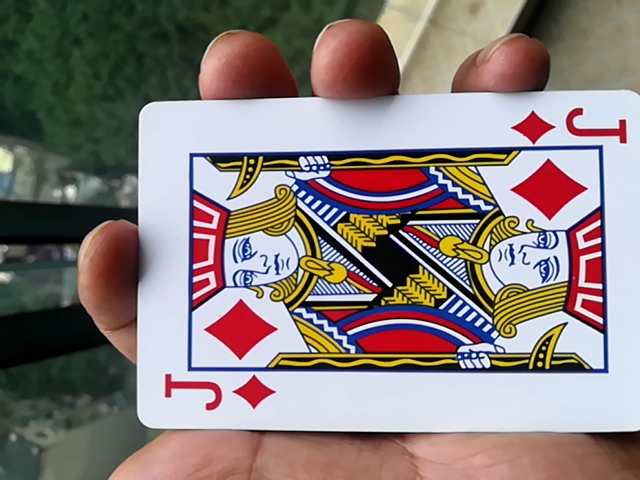fk j: (118, 110, 637, 442)
